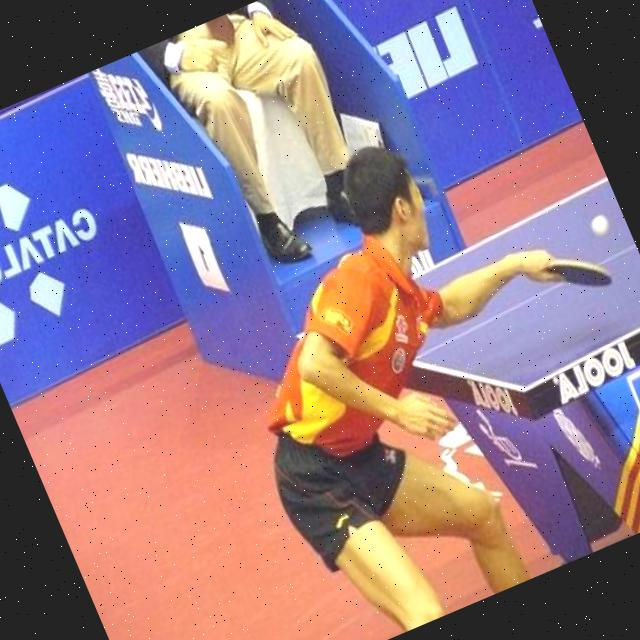ping-pong-ball: (585, 210, 611, 240)
